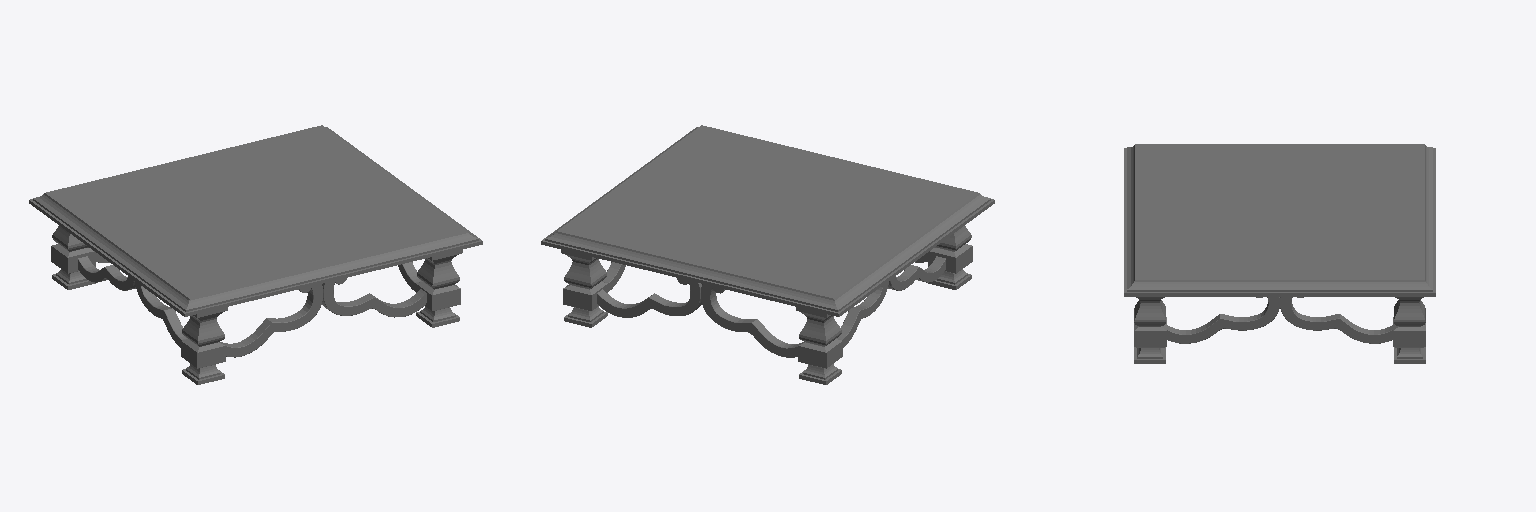
File: wooden_table.obj
The picture shows the model from 3 angles: view 1: azimuth 30°, elevation 25°; view 2: azimuth 150°, elevation 25°; view 3: azimuth 270°, elevation 25°; orthographic projection.
Visible parts, largest first — view 1: table_Center_lo_网格; view 2: table_Center_lo_网格; view 3: table_Center_lo_网格.
Part boxes in pixels (left/top/right/bottom): table_Center_lo_网格: left=29, top=125, right=482, bottom=384; table_Center_lo_网格: left=541, top=125, right=994, bottom=384; table_Center_lo_网格: left=1124, top=144, right=1435, bottom=363.
Bounding box in the file's own units: 24.2 × 6.82 × 21.88.